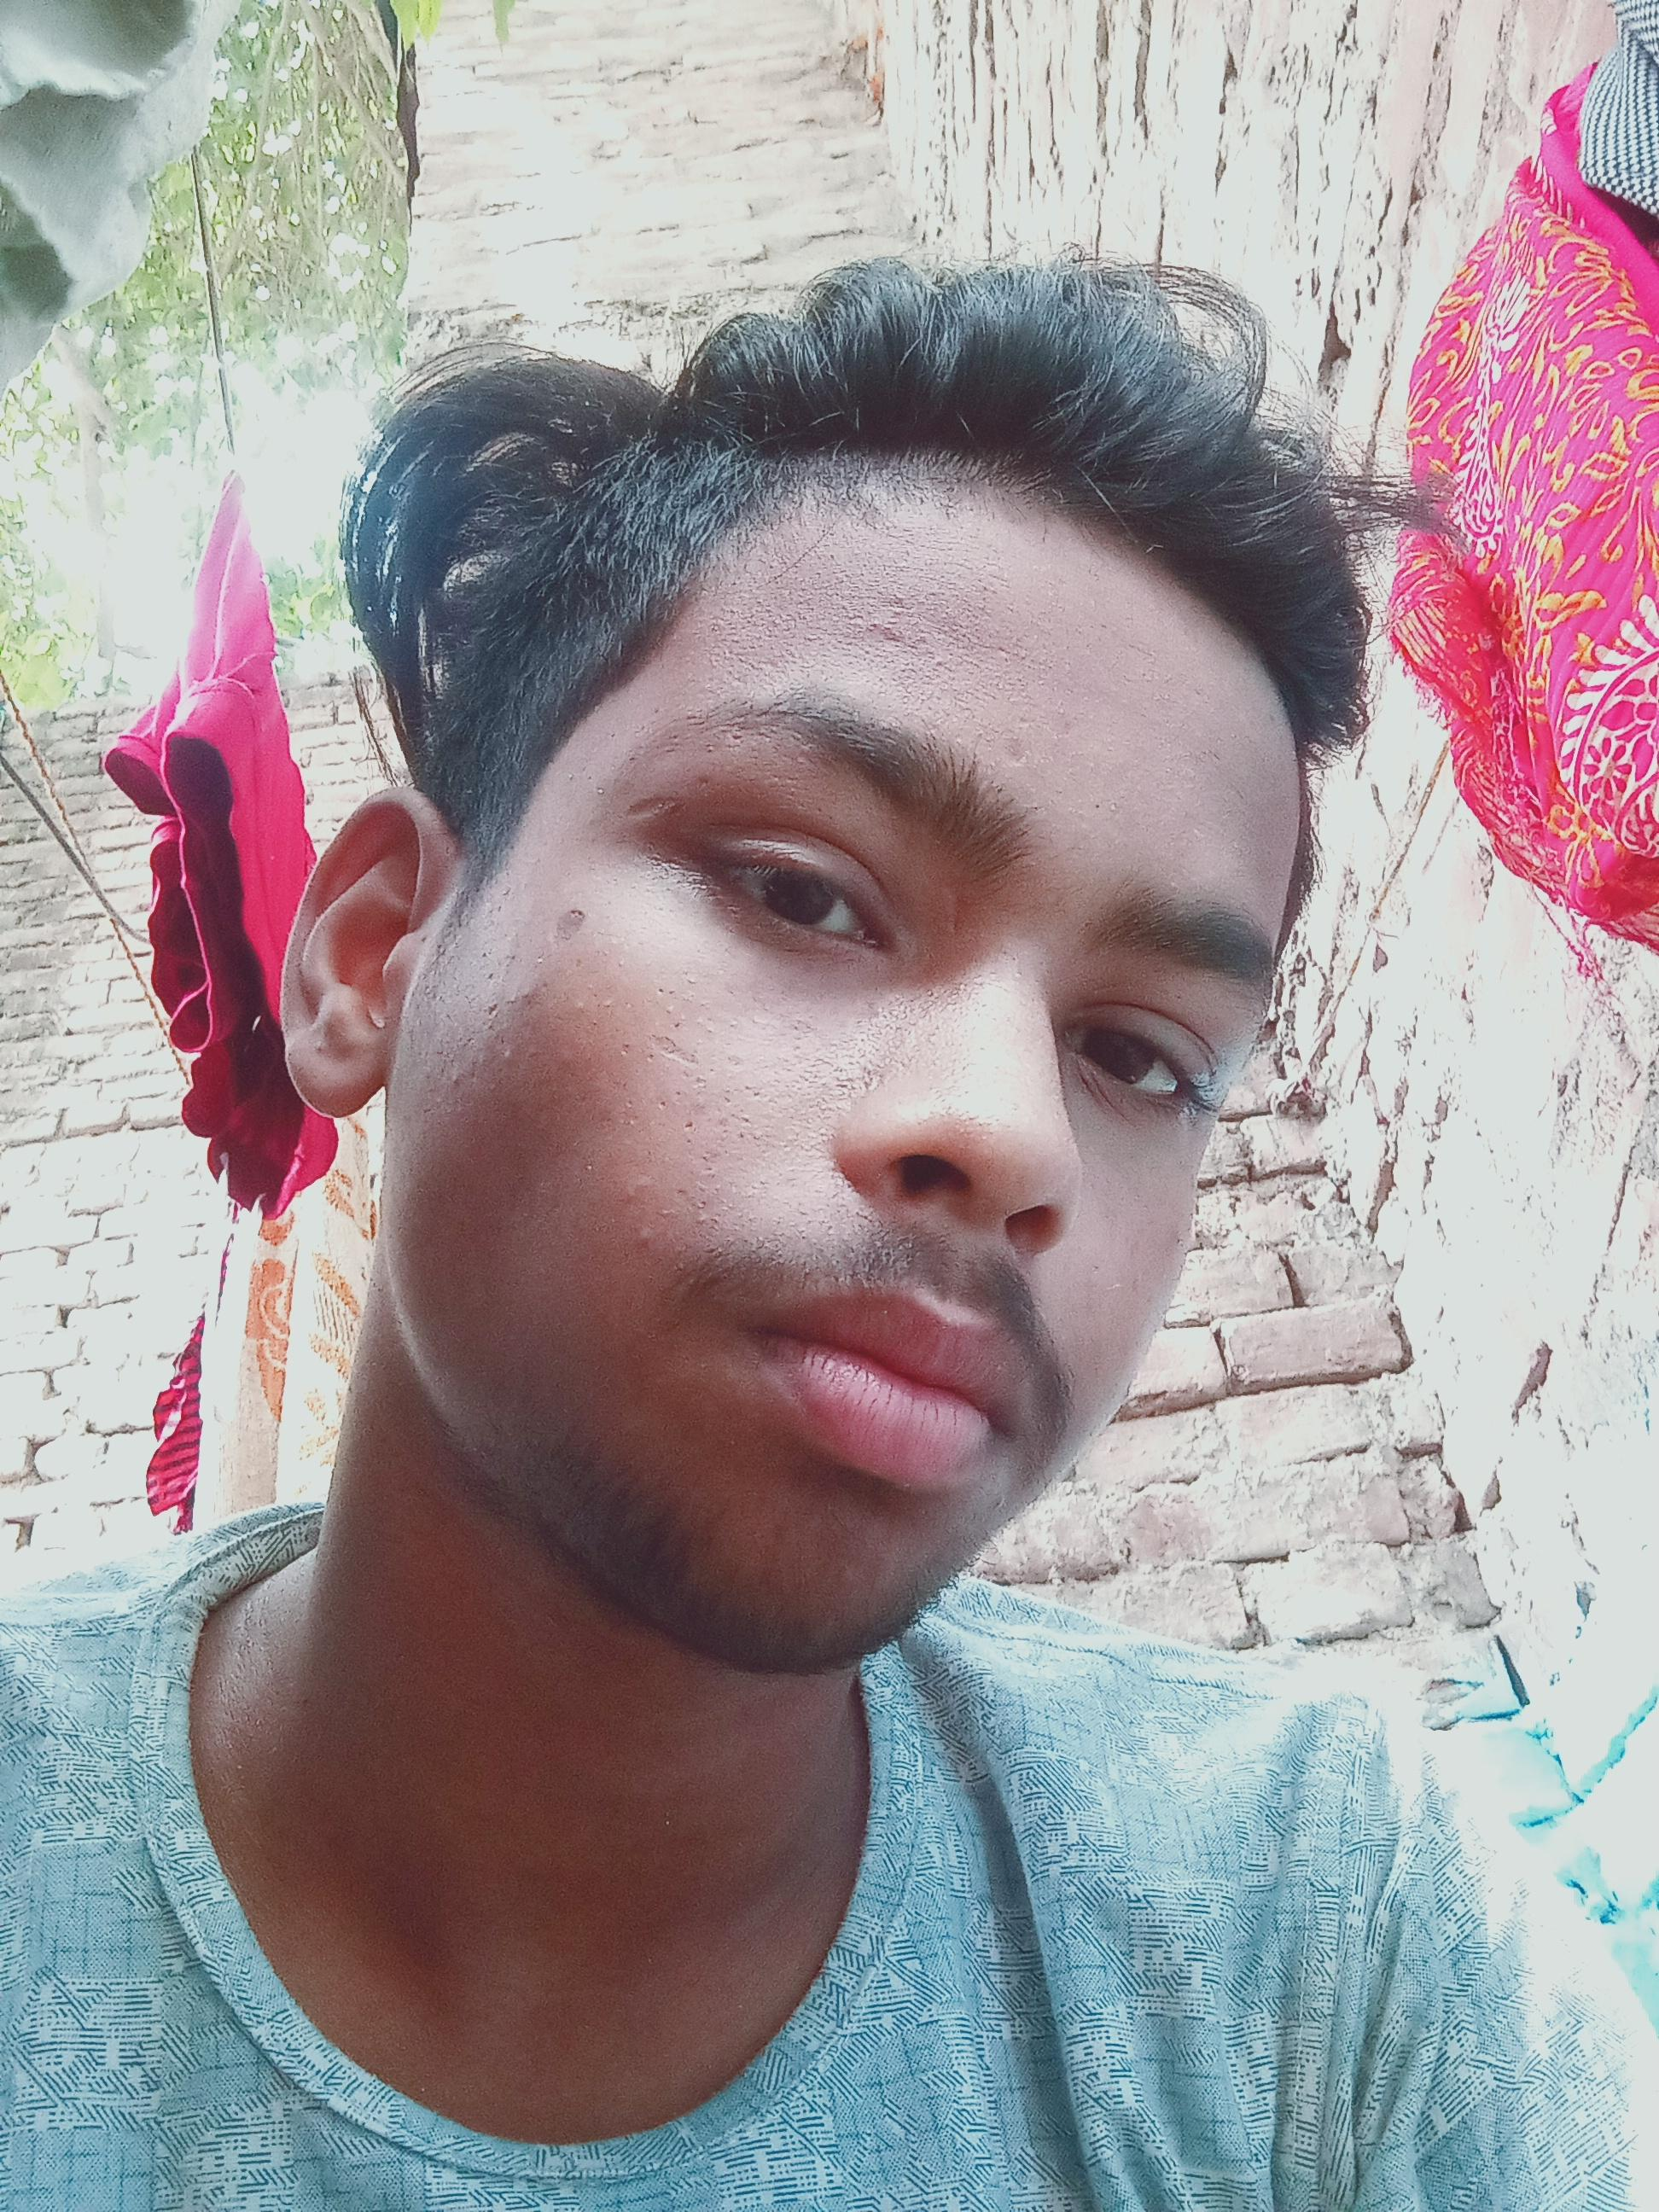Acne: (866, 608, 908, 651), (749, 1517, 791, 1557), (824, 1559, 856, 1594), (633, 1223, 659, 1254)
Blackheads: (615, 981, 770, 1146), (472, 942, 613, 1038), (436, 975, 509, 1092), (669, 1151, 737, 1226)
Eyebags: (695, 897, 892, 1000)
